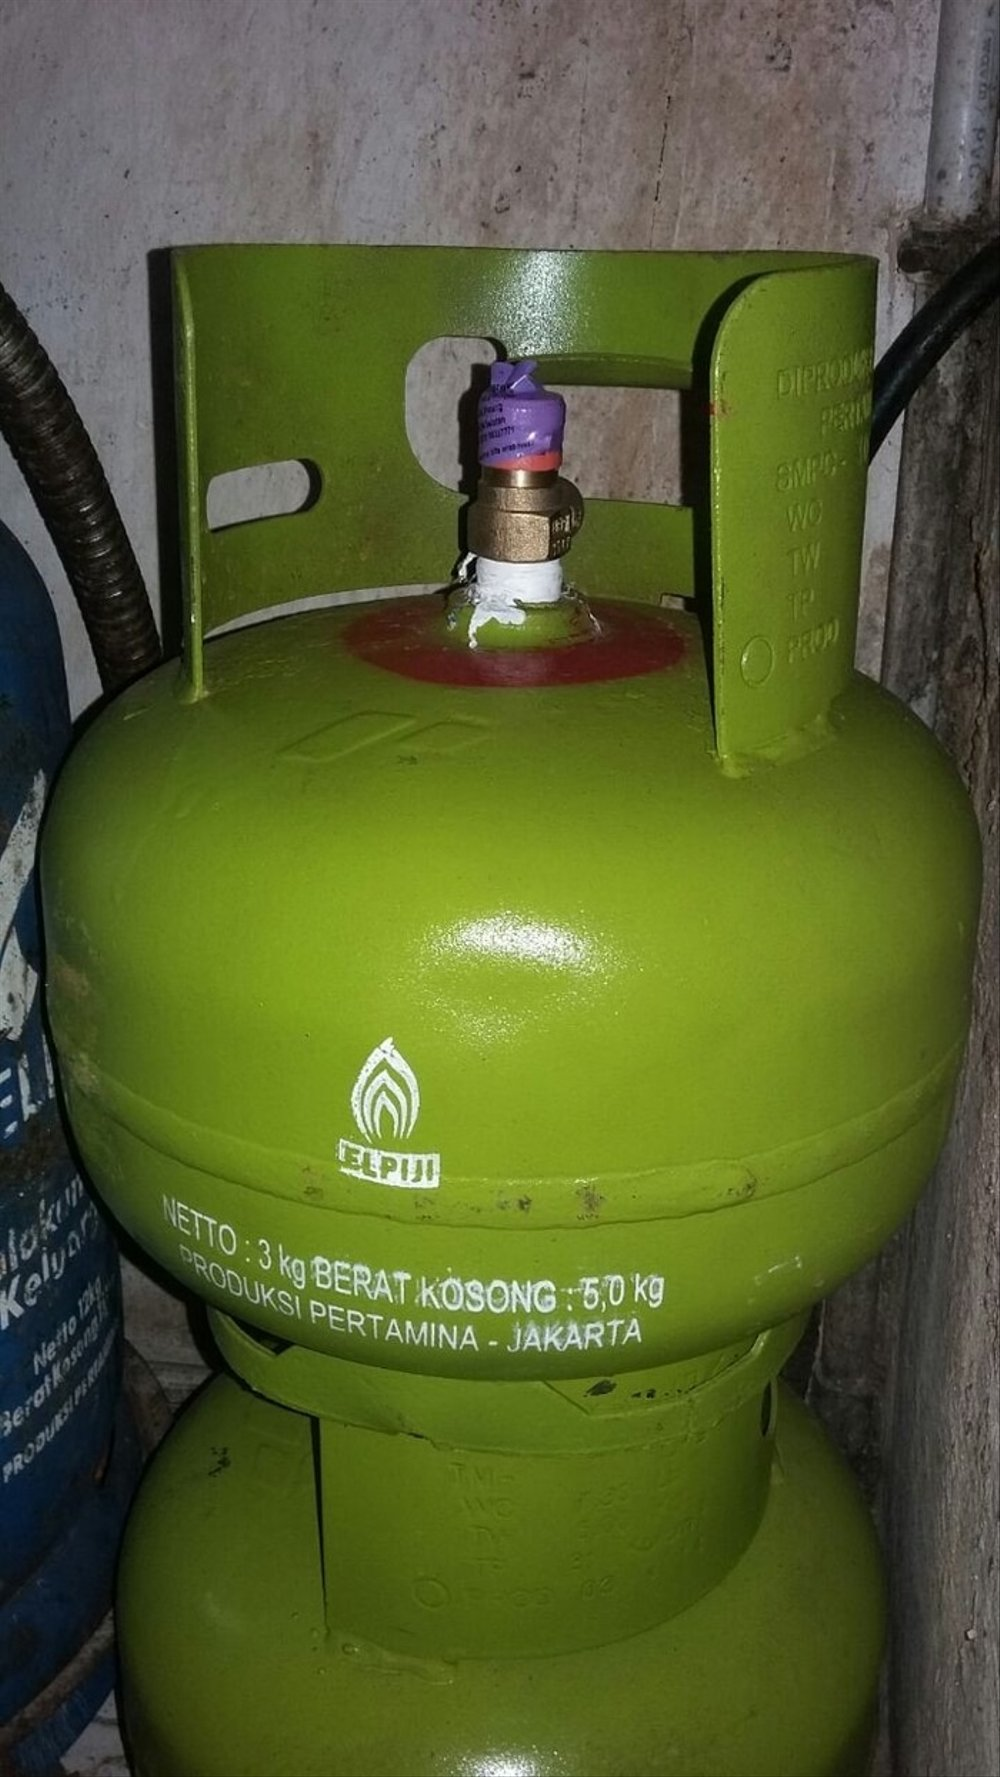gas_ijo: (55, 239, 979, 1465), (112, 1303, 894, 1777)
